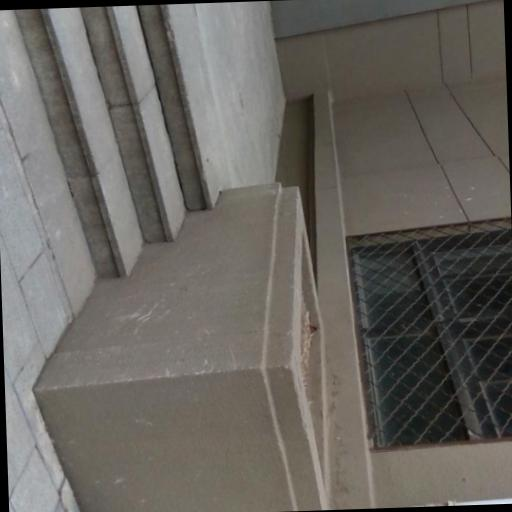stairs: (15, 4, 220, 275)
